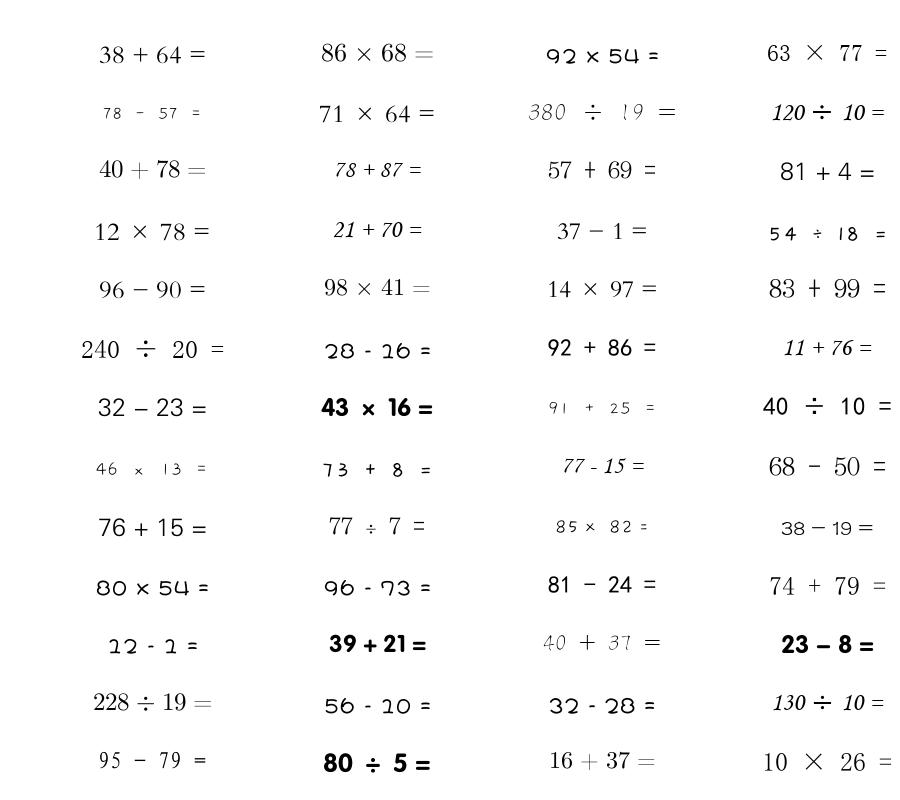MQ: (81, 340, 224, 358), (528, 104, 676, 121), (762, 752, 892, 771), (763, 397, 892, 416), (769, 278, 886, 298), (769, 456, 886, 476), (321, 397, 433, 417), (323, 753, 431, 773), (321, 43, 434, 62), (93, 693, 212, 711), (99, 160, 206, 180), (769, 577, 886, 595), (319, 105, 435, 123), (94, 223, 210, 241), (98, 398, 207, 417), (98, 518, 207, 537), (767, 44, 887, 61), (549, 751, 656, 770), (548, 161, 656, 179), (98, 751, 206, 769), (770, 104, 884, 121), (99, 46, 206, 64), (99, 281, 206, 299), (324, 278, 431, 296), (771, 694, 884, 711), (543, 635, 661, 651), (547, 281, 658, 298), (781, 634, 874, 654), (329, 634, 426, 653), (548, 339, 656, 356), (548, 576, 656, 593), (548, 697, 656, 714), (324, 342, 431, 359), (324, 579, 431, 596), (324, 697, 431, 714), (767, 226, 888, 241), (546, 48, 659, 64), (96, 580, 209, 596), (780, 162, 875, 181), (329, 517, 425, 535), (321, 462, 433, 477), (96, 462, 208, 476), (557, 223, 648, 240), (332, 221, 422, 238), (782, 339, 872, 356), (548, 401, 657, 415), (107, 638, 198, 654), (561, 458, 644, 474), (333, 162, 421, 177), (555, 520, 649, 534), (102, 107, 202, 120), (781, 521, 873, 535)
